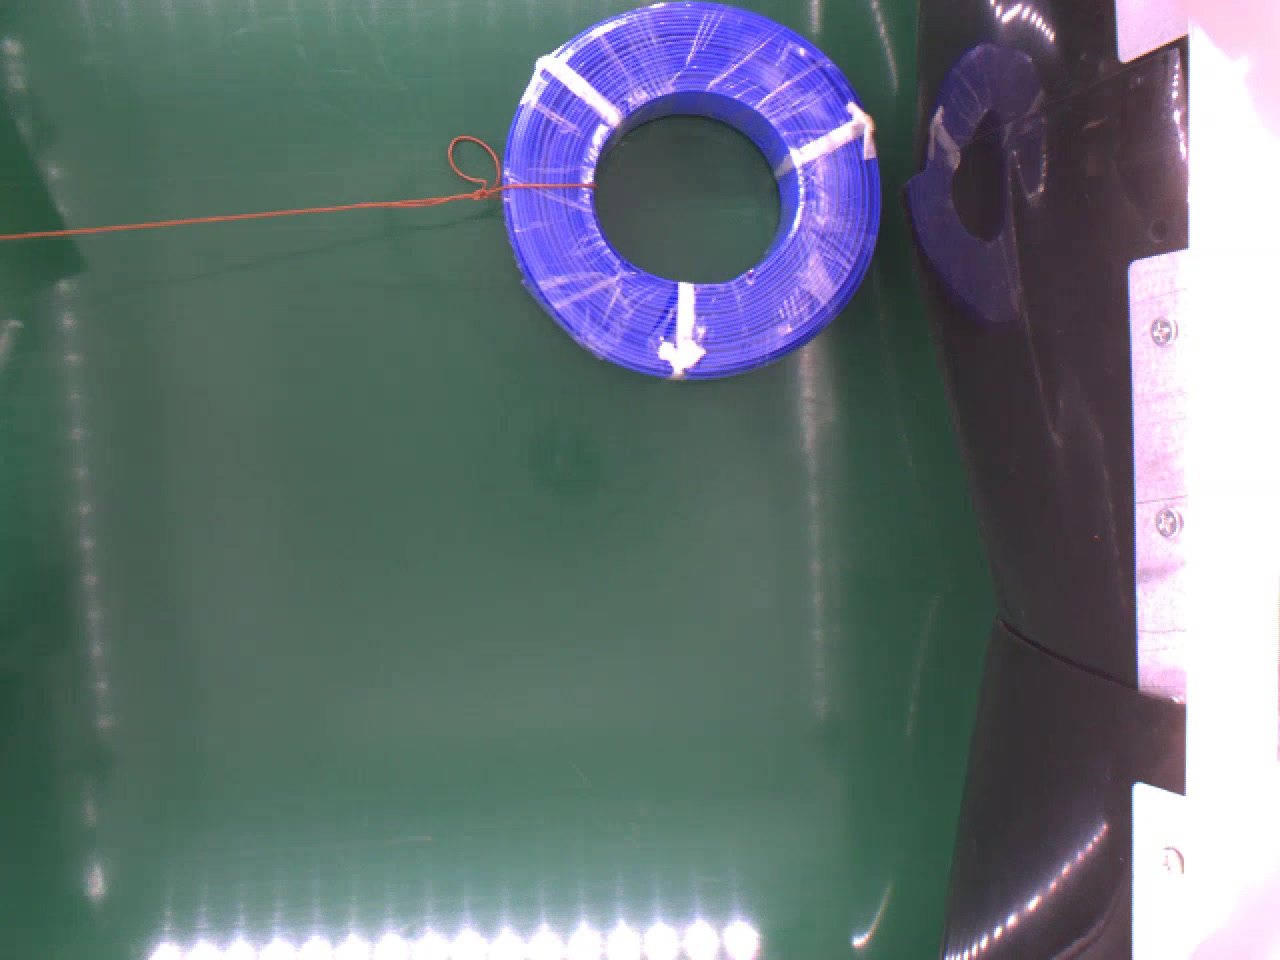blue: (501, 1, 882, 381)
